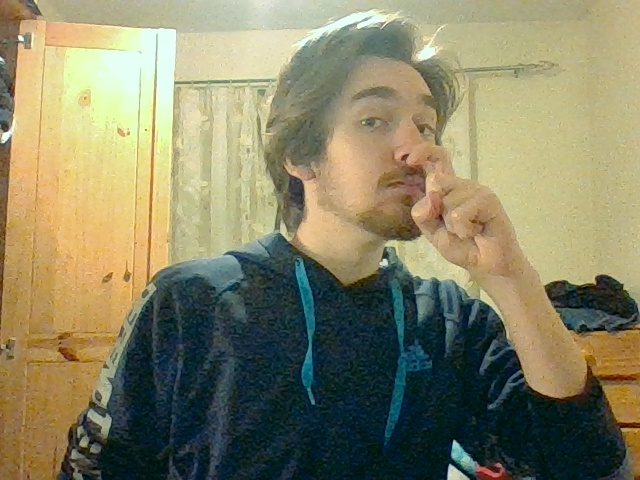sister: (406, 142, 493, 247)
